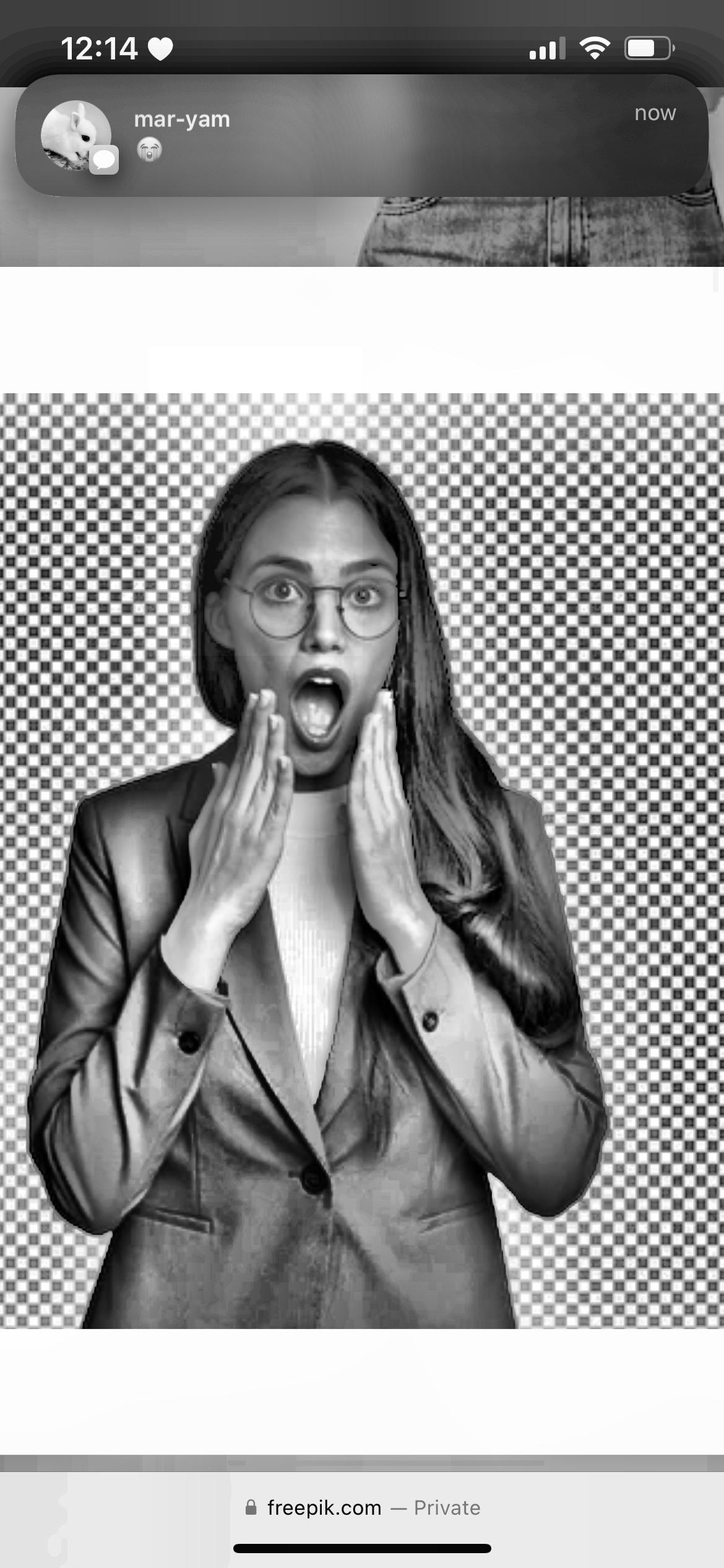surprised: (184, 430, 448, 811)
